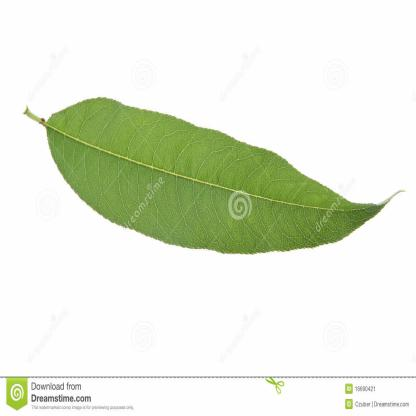Peach leaf: (22, 85, 407, 266)
